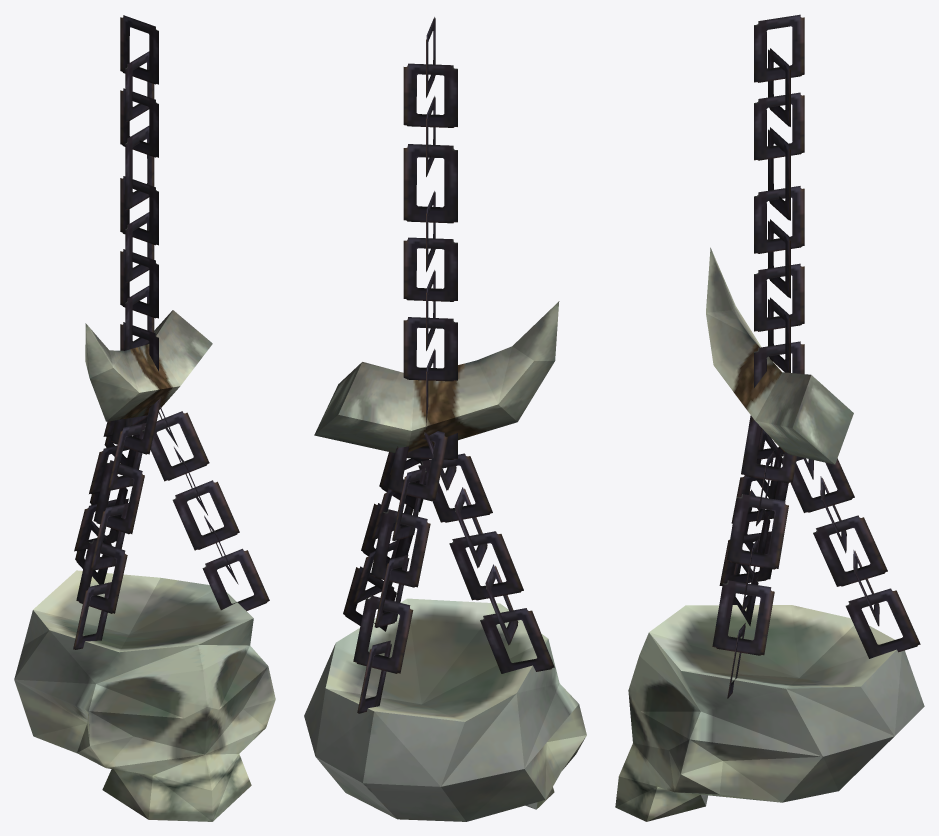
Rendered from lava_skullbrazier_hanging.fbx.
The picture shows the model from 3 angles, left to right: view 1: azimuth 30°, elevation 25°; view 2: azimuth 150°, elevation 25°; view 3: azimuth 270°, elevation 25°; orthographic projection. The views are drawn at different scales.
Visible parts, largest first — view 1: obj0.102; view 2: obj0.102; view 3: obj0.102.
Boxes of the visible parts, <box> form: obj0.102: <box>14,15,275,821</box>; obj0.102: <box>304,17,586,821</box>; obj0.102: <box>615,14,924,821</box>.
Bounding box in the file's own units: 0.6059 × 2.03 × 0.7183.
